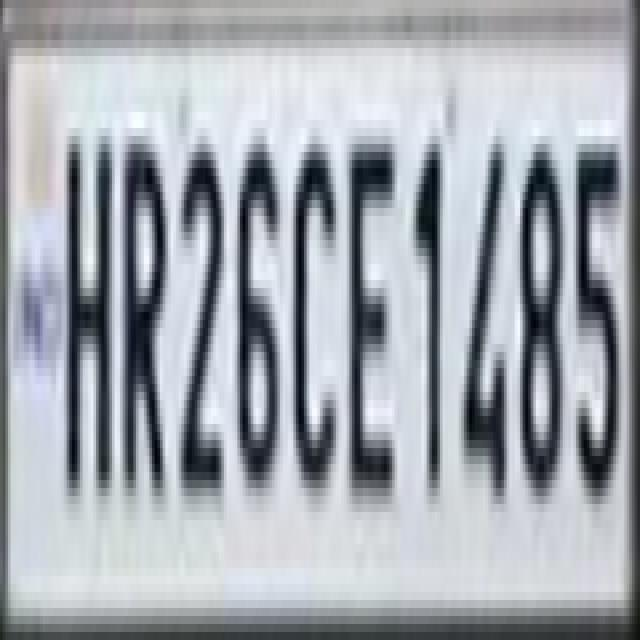LicensePlate: (3, 9, 638, 636)
